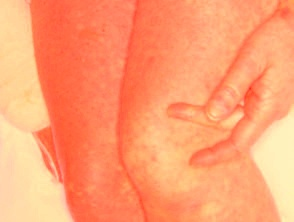SJS-TEN: (21, 0, 294, 222)
